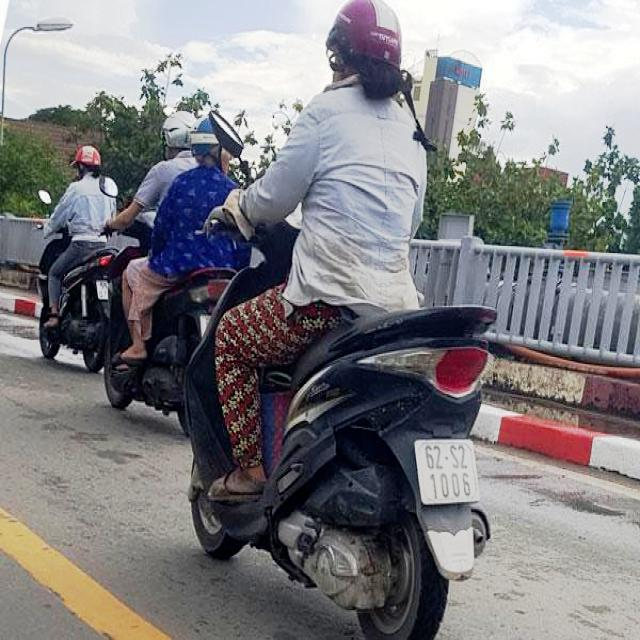license_plate: (417, 441, 481, 505)
